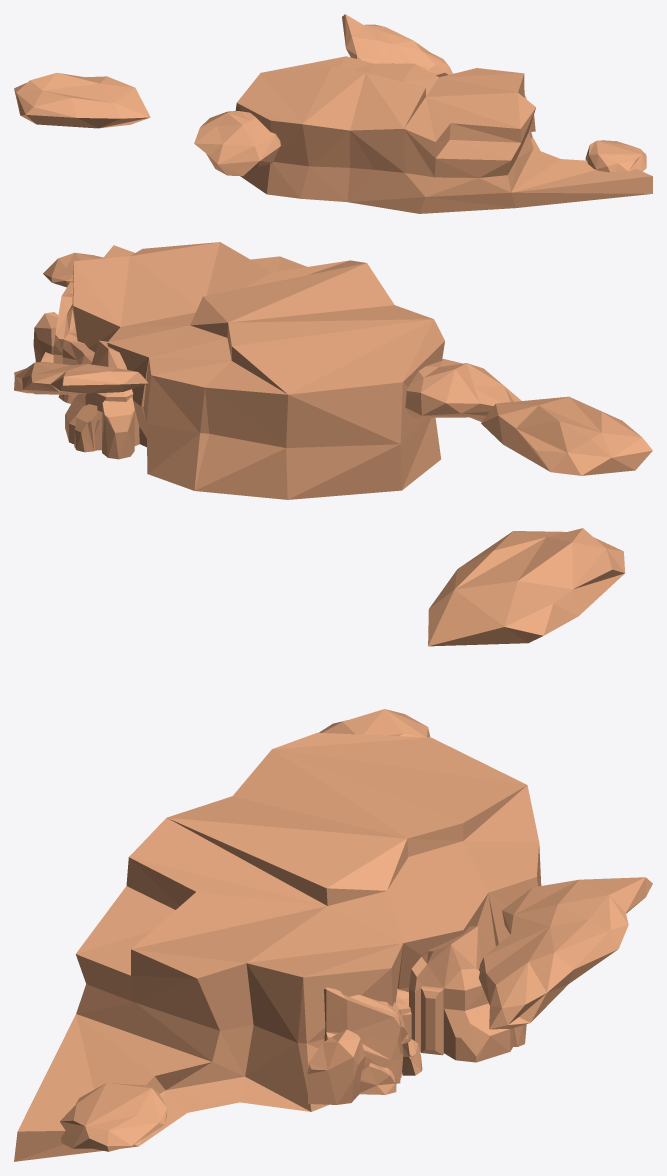
The picture shows the model from 3 angles, top to bottom: view 1: azimuth 30°, elevation 25°; view 2: azimuth 150°, elevation 25°; view 3: azimuth 270°, elevation 25°; orthographic projection. The views are drawn at different scales.
Visible parts, largest first — view 1: Cube.002; view 2: Cube.002; view 3: Cube.002.
Part boxes in pixels (box(x1,y1,x2,y2)): Cube.002: box(14, 14, 652, 213); Cube.002: box(14, 242, 652, 499); Cube.002: box(14, 528, 652, 1161).
Size of the model in its own units: 69.31 by 15.46 by 40.83.
